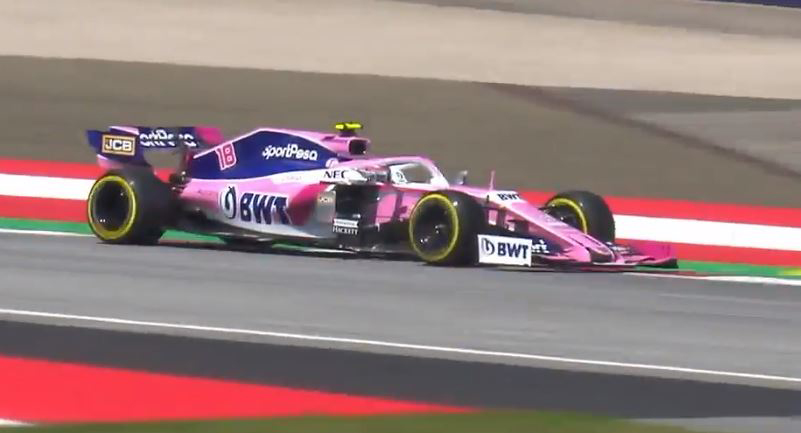F1 Car: (77, 116, 685, 275)
